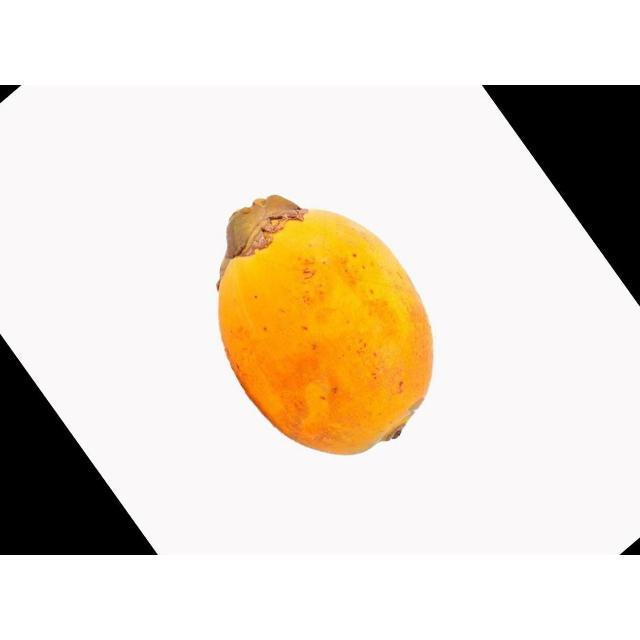good: (216, 196, 436, 458)
